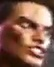kevin: (1, 0, 50, 64)
